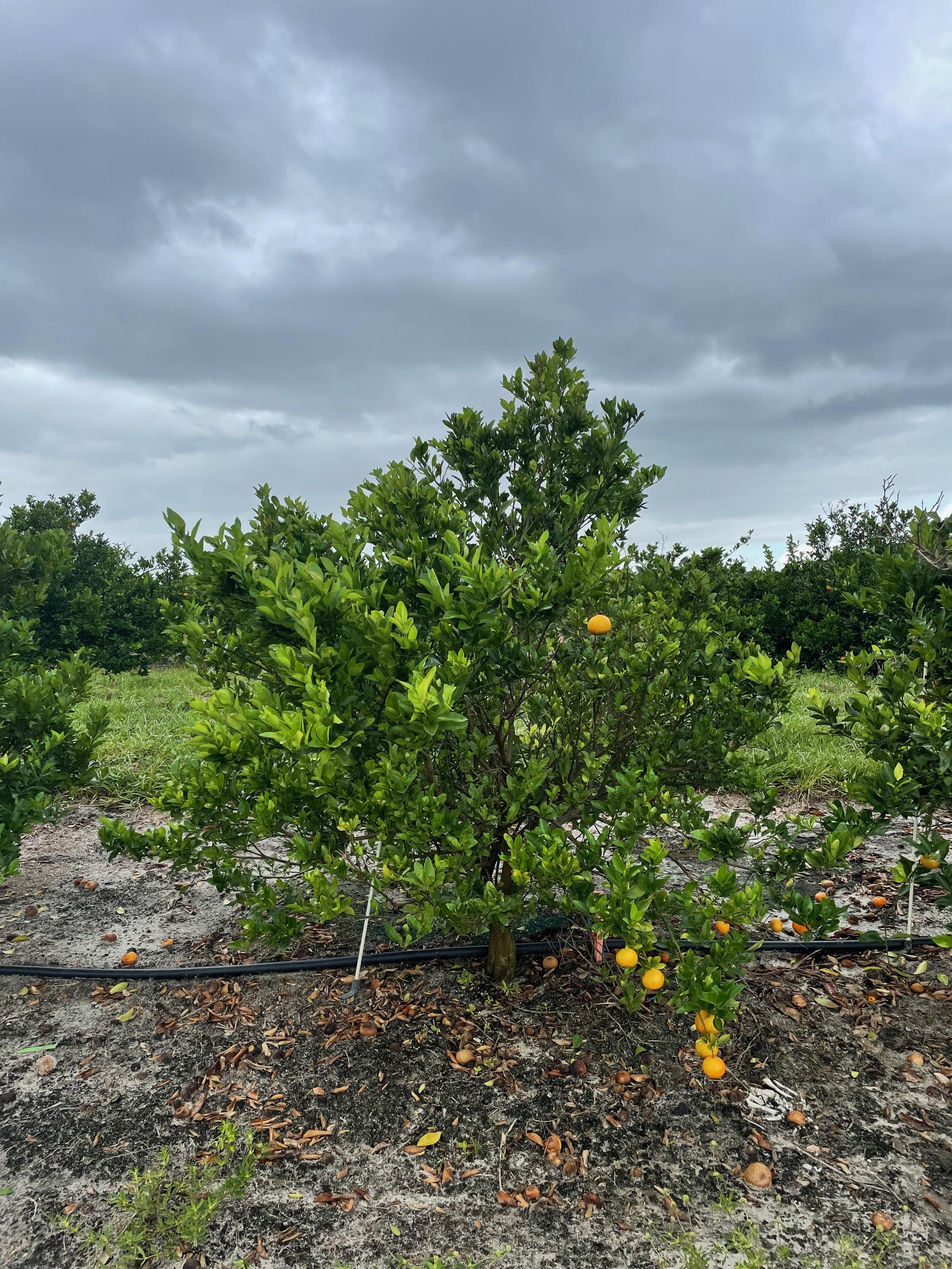fruit_on_ground: (693, 1007, 727, 1037), (640, 965, 667, 992), (700, 1054, 728, 1080), (586, 612, 613, 637), (693, 1036, 721, 1059), (614, 945, 640, 969), (791, 915, 815, 938), (917, 849, 942, 871), (713, 917, 732, 935), (70, 522, 77, 528), (183, 592, 189, 597)
fruit_on_tree: (742, 1159, 775, 1190), (452, 1045, 476, 1067), (785, 1107, 808, 1127), (567, 1059, 589, 1079), (541, 953, 560, 971), (522, 1182, 540, 1200), (767, 915, 785, 933), (613, 1067, 632, 1084), (21, 902, 40, 919), (120, 948, 139, 965), (656, 948, 673, 966), (871, 893, 889, 908), (101, 929, 118, 944), (820, 876, 837, 889), (812, 889, 829, 902), (84, 879, 99, 893), (159, 936, 175, 948), (79, 877, 92, 888)
